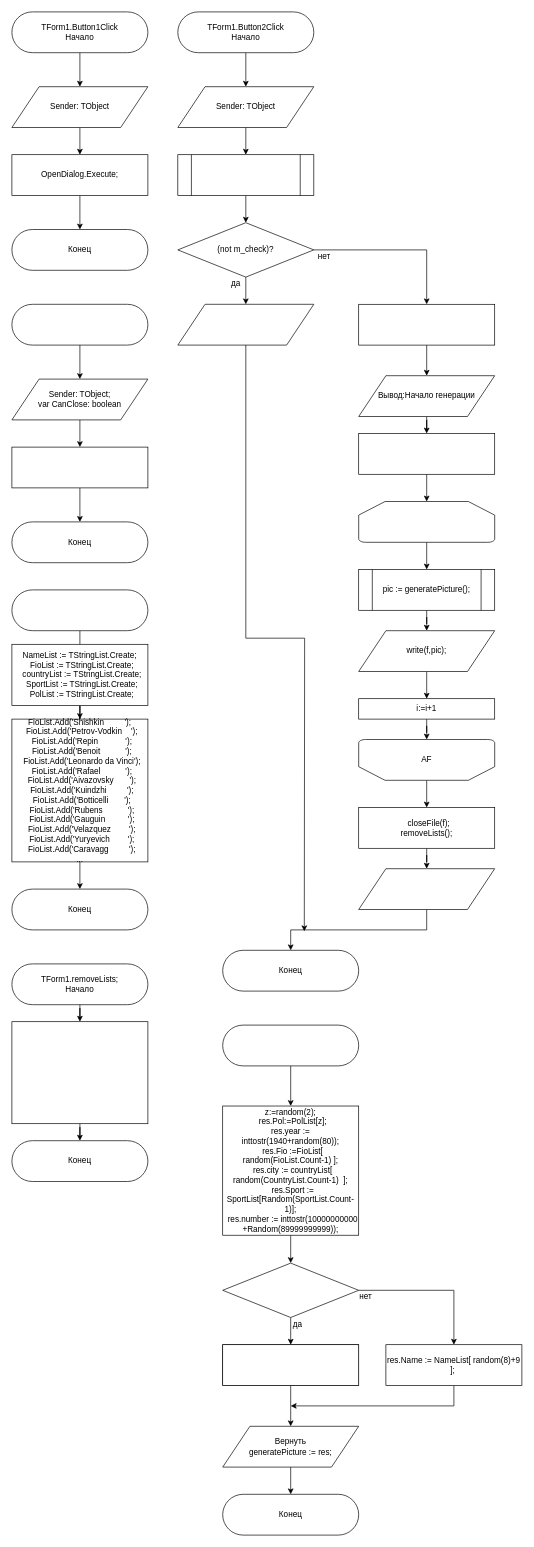
Image size: 534x1547. Some labels were removed from this diagram. The shapes that lost their labels are listed below. From the top down, each one's box as (x1, y1, x2, y2) in pixels, then its label:
(177, 154, 314, 196): initLists();
(11, 304, 148, 345): TForm1.OpenDialogCanClose Начало
(177, 304, 314, 345): Вывод:Пожалуйста, выберите файл!
(358, 304, 495, 345): m_check := false;
(11, 446, 148, 488): m_check := true; label1.Caption := openDialog.FileName;
(358, 433, 495, 474): AssignFile(f,openDialog.FileName); rewrite(f); z:=2500000; i:=0;
(358, 501, 495, 542): AF i>z
(11, 589, 148, 631): TForm1.initLists Начало
(358, 868, 495, 910): Вывод:Генерация завершена
(222, 1024, 359, 1066): TForm1.generatePicture Начало
(11, 1021, 148, 1124): NameList.Free; FioList.Free; countryList.Free; sportList.Free; PolList.Free;
(222, 1262, 359, 1318): z=1?
(222, 1344, 359, 1386): res.Name := NameList[ random(8) ]
